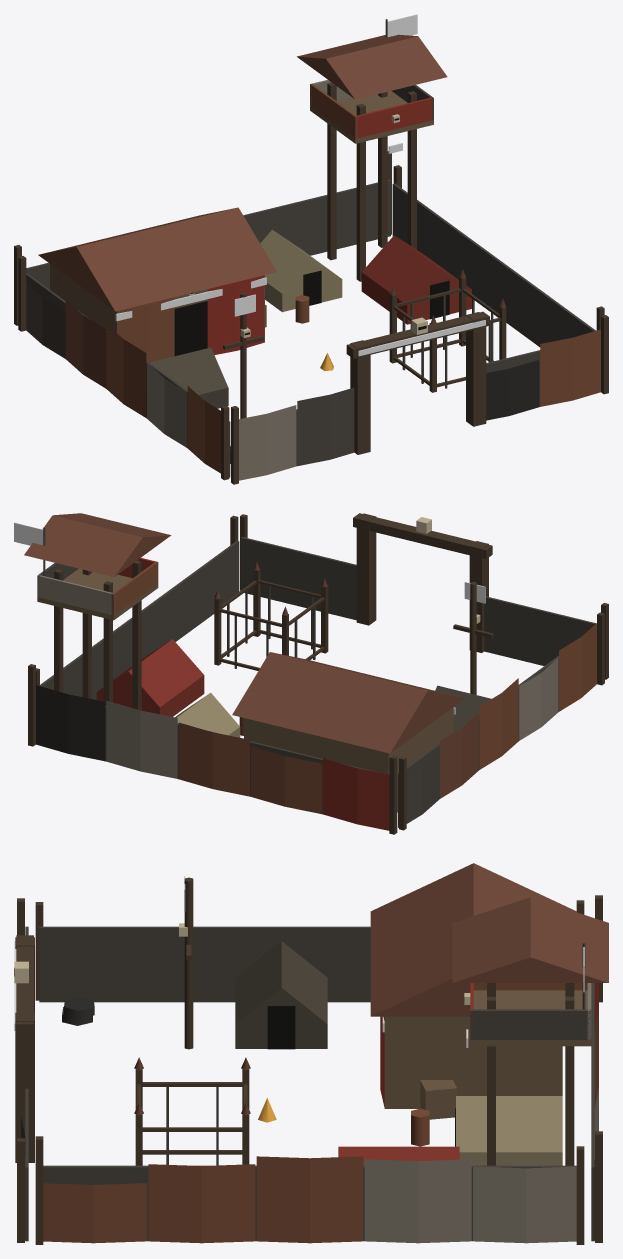
3 views of the same model, one above another, from view 1: azimuth 30°, elevation 25°; view 2: azimuth 150°, elevation 25°; view 3: azimuth 270°, elevation 25° (orthographic). The views are drawn at different scales.
Visible parts, largest first — view 1: raider_building_camp; view 2: raider_building_camp; view 3: raider_building_camp.
Part boxes in pixels (x1,y1,x2,y2): raider_building_camp: (14,14,608,484); raider_building_camp: (14,513,608,834); raider_building_camp: (14,863,608,1244).
Size of the model in its own units: 17.26 by 9.1 by 16.72.
